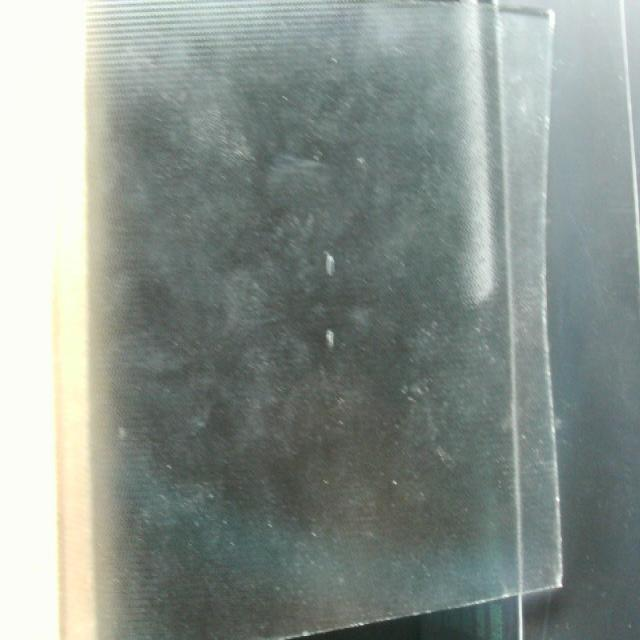edge_chip: (549, 563, 569, 592)
very small scratch: (320, 240, 340, 287), (322, 322, 338, 352)
